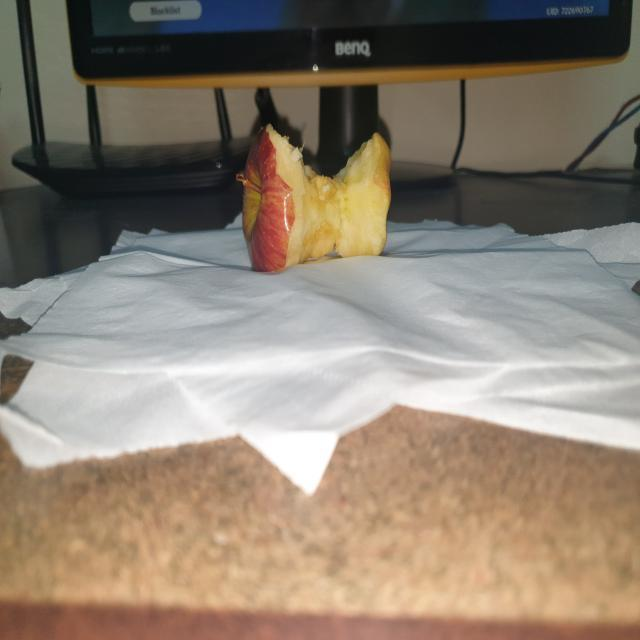apple: (228, 112, 396, 278)
